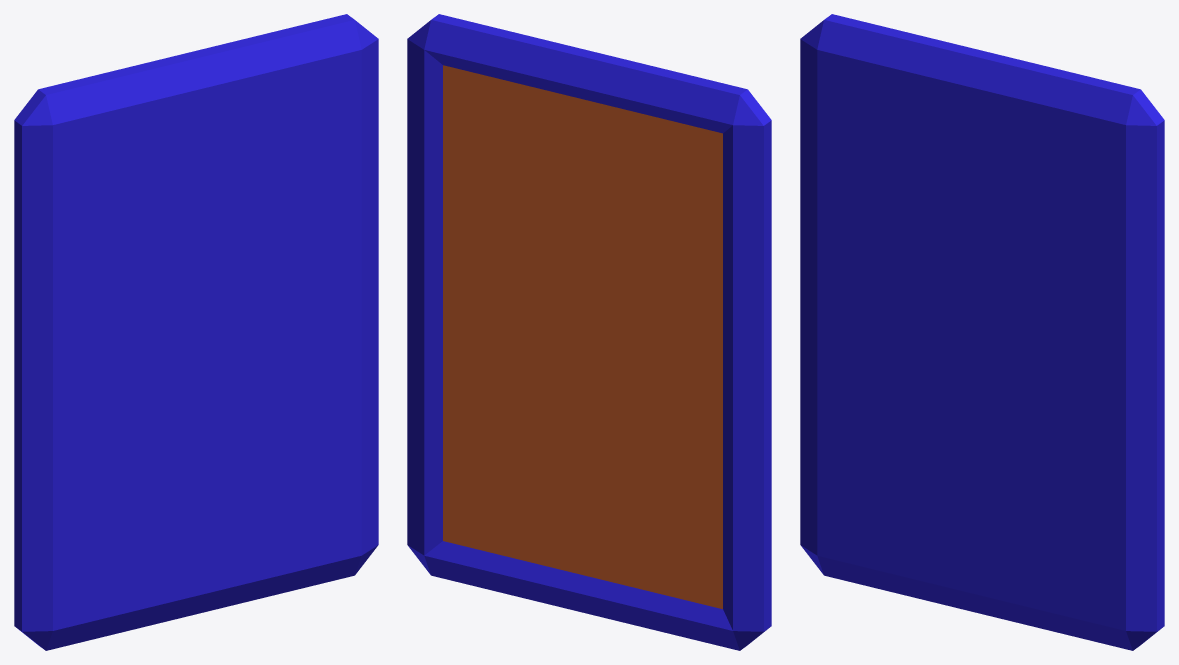
File: empty.fbx
3 renders of one model, left to right at view 1: azimuth 30°, elevation 25°; view 2: azimuth 150°, elevation 25°; view 3: azimuth 330°, elevation 25°, orthographic.
Parts seen in each view (by area): view 1: card; view 2: card; view 3: card.
Part boxes in pixels (left/top/right/bottom): card: left=14, top=14, right=378, bottom=650; card: left=407, top=14, right=771, bottom=650; card: left=800, top=14, right=1164, bottom=650.
Size of the model in its own units: 22.39 by 2.36 by 33.35.
